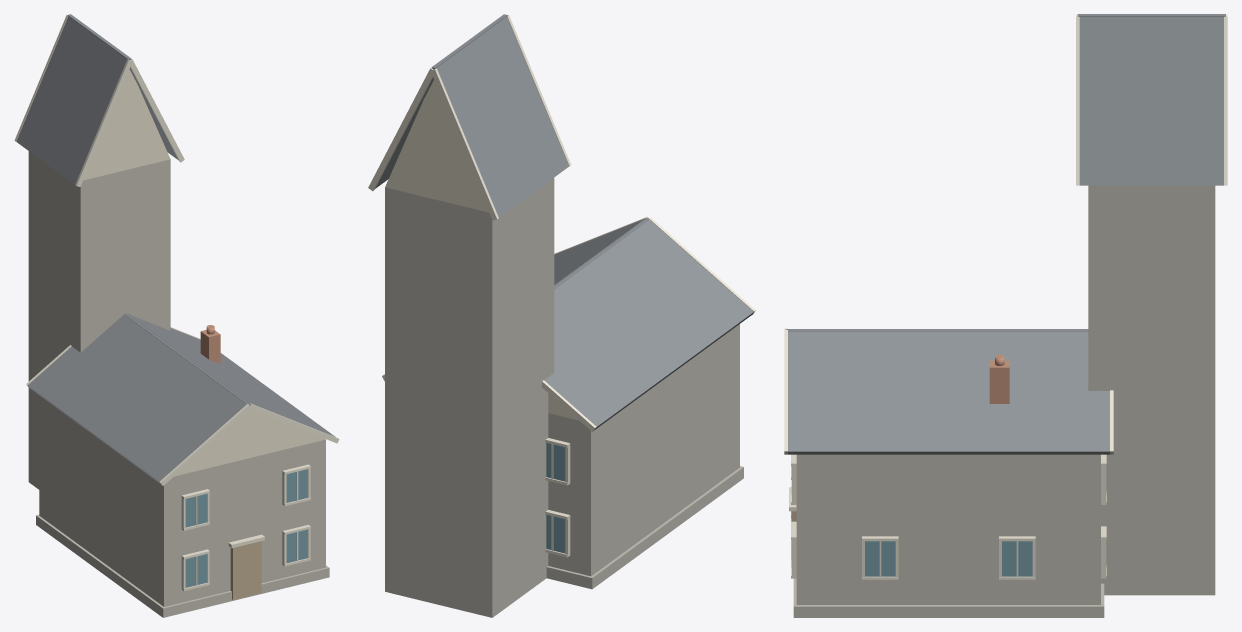
File: rhine-church_lod0.glb
3 renders of one model, left to right at view 1: azimuth 30°, elevation 25°; view 2: azimuth 150°, elevation 25°; view 3: azimuth 270°, elevation 25°, orthographic. The views are drawn at different scales.
Visible parts, largest first — view 1: RF_Body, RF_ChurchTower, RF_Roof.001, RF_Roof.003, RF_Gable.002, RF_Gable, RF_Roof.002, RF_Foundation, RF_Door.001, RF_Vergeband.005, RF_Vergeband.001, RF_Vergeband.007 (+7 smaller); view 2: RF_ChurchTower, RF_Body, RF_Roof.001, RF_Roof.003, RF_Gable.003, RF_Foundation, RF_Roof.002, RF_Vergeband.006, RF_Vergeband, RF_Window.005, RF_Window.006, RF_Roof; view 3: RF_ChurchTower, RF_Body, RF_Roof.002, RF_Roof, RF_Foundation, RF_Window.009, RF_Window, RF_Ridge.001, RF_Chimney, RF_Vergeband.007, RF_Vergeband.
Boxes of the visible parts, x1,y1,x2,y2 form: RF_Body: (39, 395, 325, 606); RF_ChurchTower: (28, 151, 170, 489); RF_Roof.001: (27, 314, 247, 484); RF_Roof.003: (16, 16, 127, 184); RF_Gable.002: (83, 69, 170, 180); RF_Gable: (174, 409, 325, 476); RF_Roof.002: (127, 314, 335, 436); RF_Foundation: (36, 514, 329, 617); RF_Door.001: (230, 541, 261, 599); RF_Vergeband.005: (75, 59, 131, 186); RF_Vergeband.001: (159, 404, 249, 485); RF_Vergeband.007: (129, 59, 184, 162); RF_ChurchTower: (385, 178, 554, 617); RF_Body: (548, 324, 739, 576); RF_Roof.001: (544, 219, 753, 429); RF_Roof.003: (436, 17, 568, 217); RF_Gable.003: (385, 80, 488, 212); RF_Foundation: (546, 466, 743, 589); RF_Roof.002: (554, 218, 646, 285); RF_Vergeband.006: (430, 68, 498, 220); RF_Vergeband: (368, 67, 433, 191); RF_Window.005: (546, 514, 565, 553); RF_Window.006: (546, 443, 565, 481); RF_Roof: (375, 77, 433, 188); RF_ChurchTower: (1088, 185, 1215, 595); RF_Body: (796, 454, 1100, 604); RF_Roof.002: (788, 330, 1109, 454); RF_Roof: (1079, 16, 1223, 185); RF_Foundation: (793, 578, 1104, 617); RF_Window.009: (865, 541, 895, 576); RF_Window: (1002, 541, 1032, 576); RF_Ridge.001: (786, 329, 1088, 331); RF_Chimney: (989, 360, 1009, 403); RF_Vergeband.007: (1076, 16, 1079, 185); RF_Vergeband: (1224, 16, 1227, 185).
Size of the model in its own units: 9.93 by 24.08 by 17.48.
